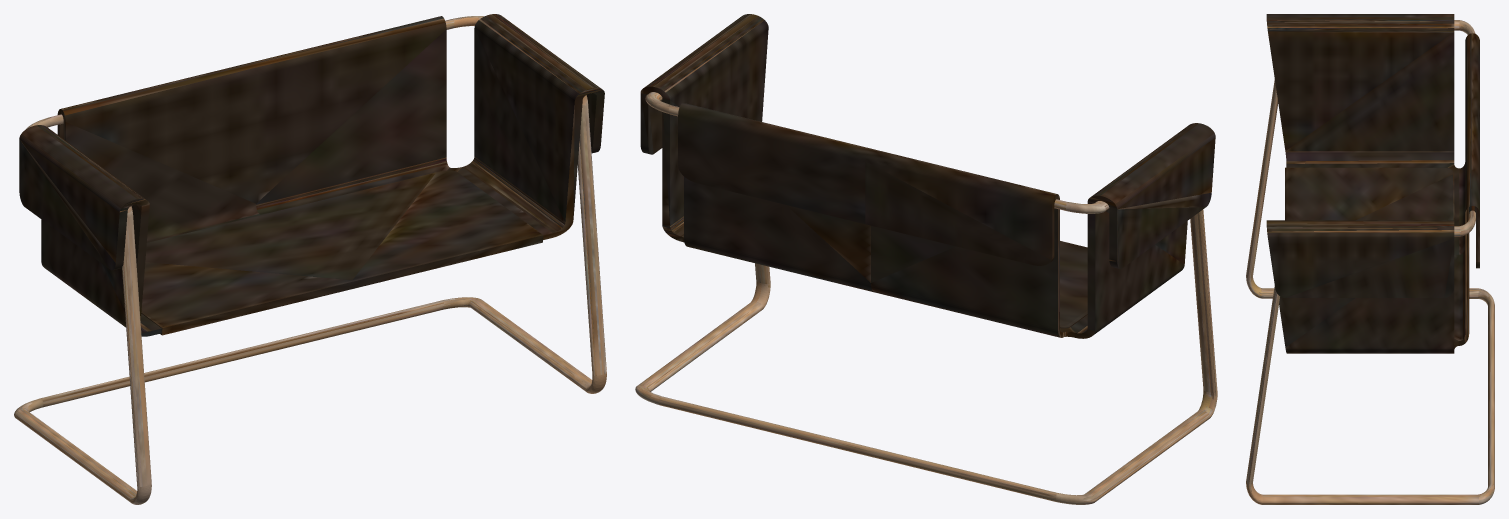
File: chair_3.glb
3 renders of one model, left to right at view 1: azimuth 30°, elevation 25°; view 2: azimuth 150°, elevation 25°; view 3: azimuth 270°, elevation 25°, orthographic. The views are drawn at different scales.
Visible parts, largest first — view 1: chair_3; view 2: chair_3; view 3: chair_3.
Part boxes in pixels (x1,y1,x2,y2): chair_3: (14,14,606,504); chair_3: (635,14,1217,504); chair_3: (1246,14,1494,504).
Bounding box in the file's own units: 3.41 × 2.04 × 1.63.
1 material, 1 textured.
